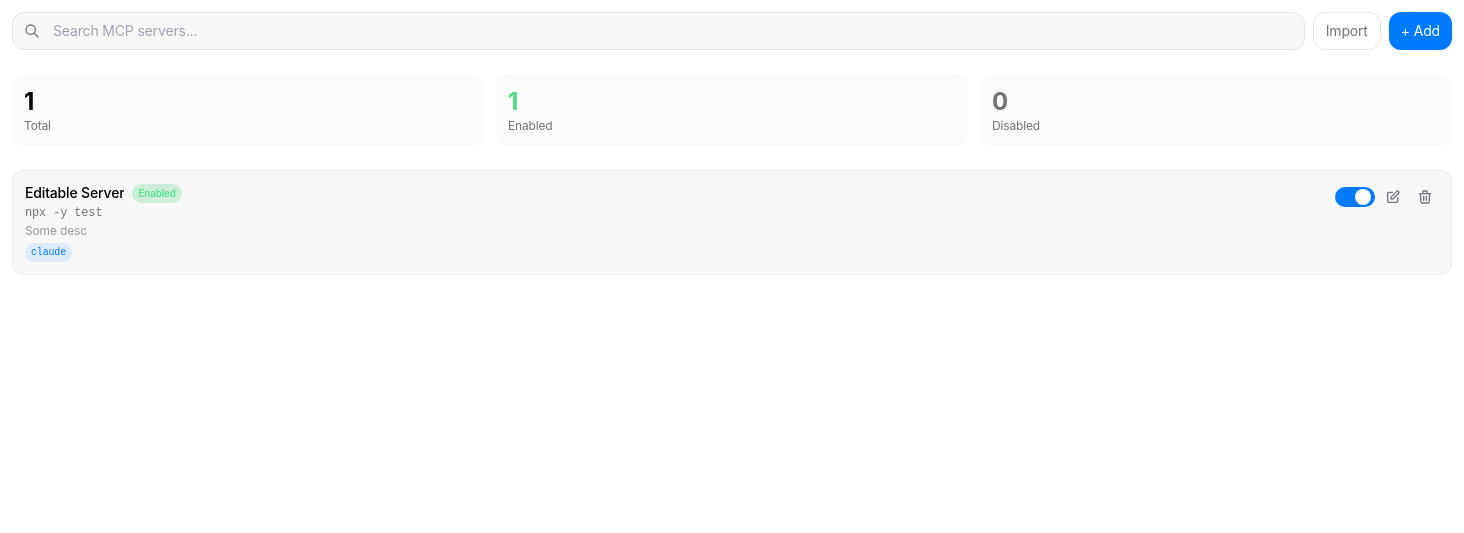
Scenario: McpServerSettings › opens edit form when edit button is clicked
Click the button titled "Edit" at x=1393, y=197, box [1379, 183, 1407, 211]
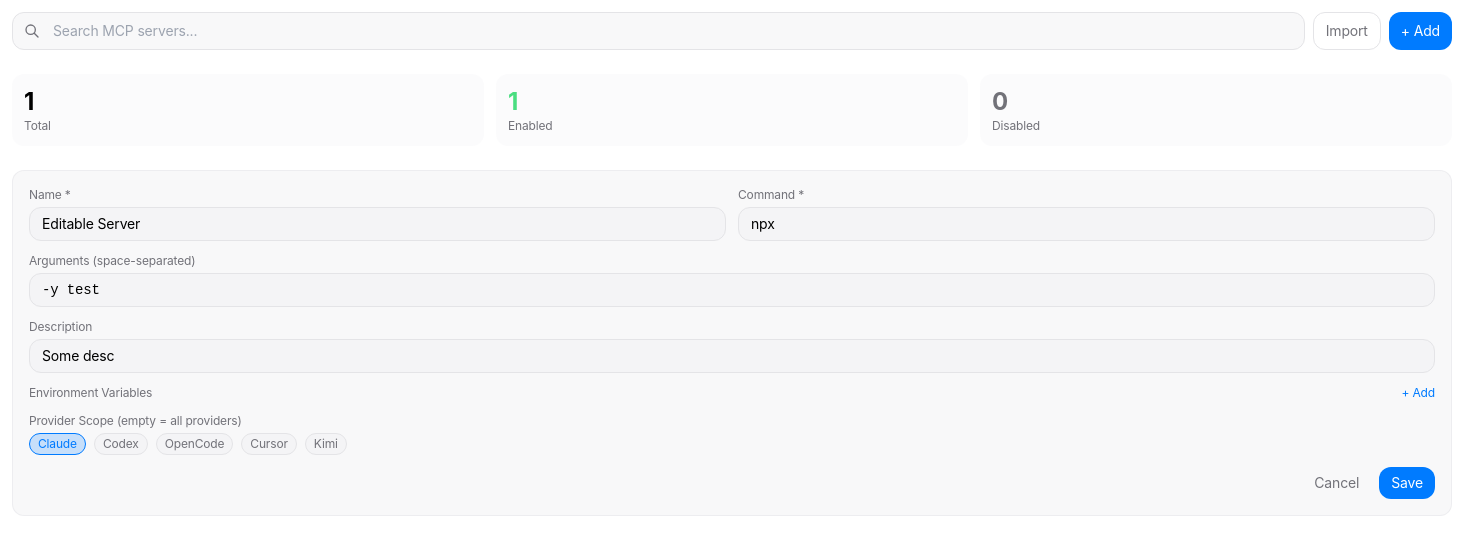
Now the field with placeholder "e.g. filesystem" below "Name *" holds "Editable Server", box [29, 207, 726, 241]
Now the field with placeholder "e.g. npx" below "Command *" holds "npx", box [738, 207, 1435, 241]
Now the button "Save" is shown, box [1379, 467, 1435, 499]
